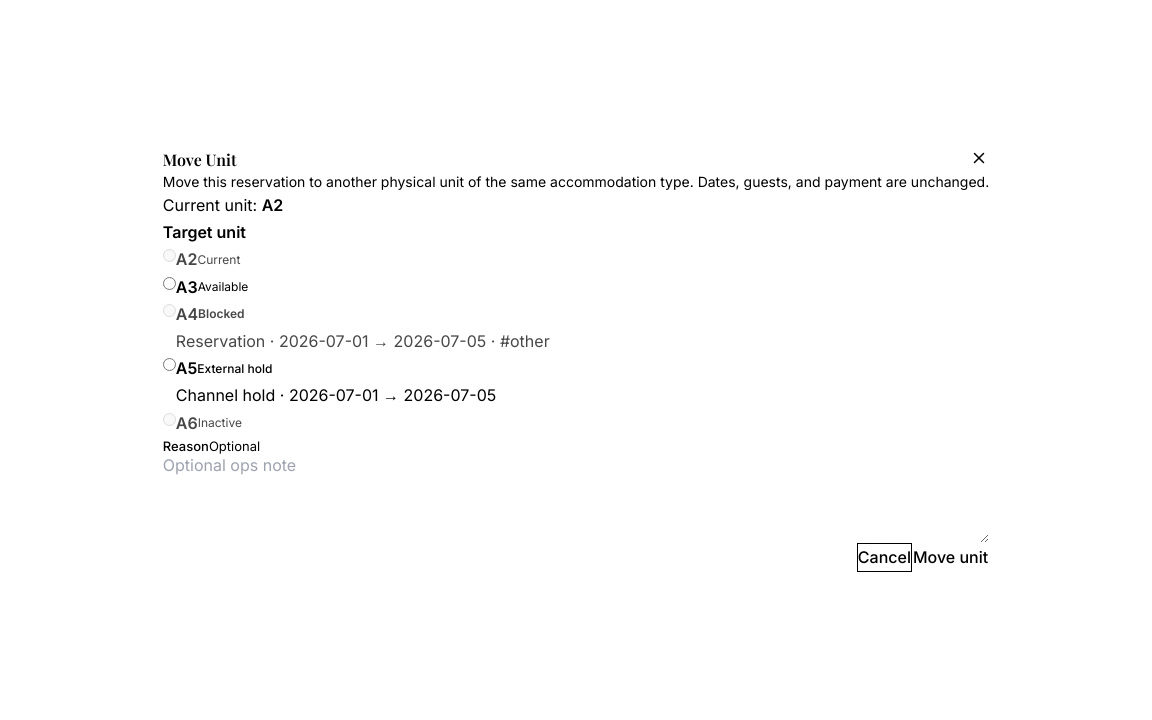
MoveUnitDialog behavior › HTTP 200 needs_reconciliation does not close as success
Expected: the text "A3" is shown, top-left (176, 274), bottom-right (198, 301)
Click the radio button showing "u-avail": (169,283) top-left (163, 277), bottom-right (176, 290)
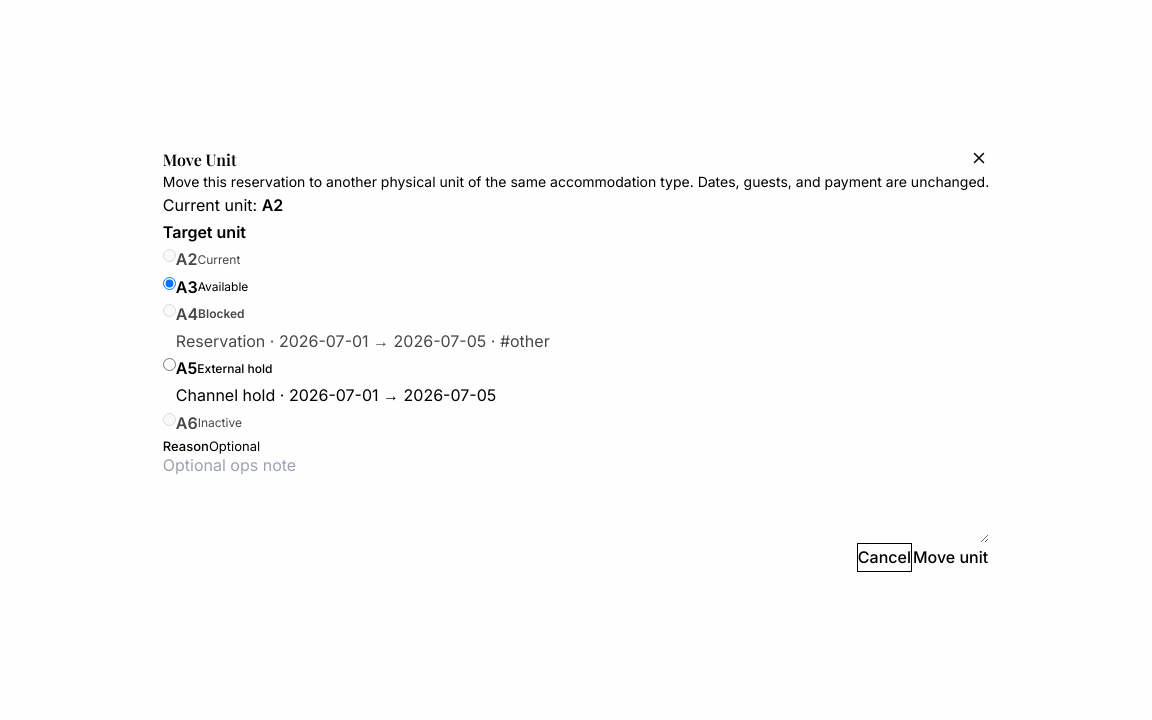
Click the button "Move unit": (951,557) top-left (912, 543), bottom-right (989, 572)
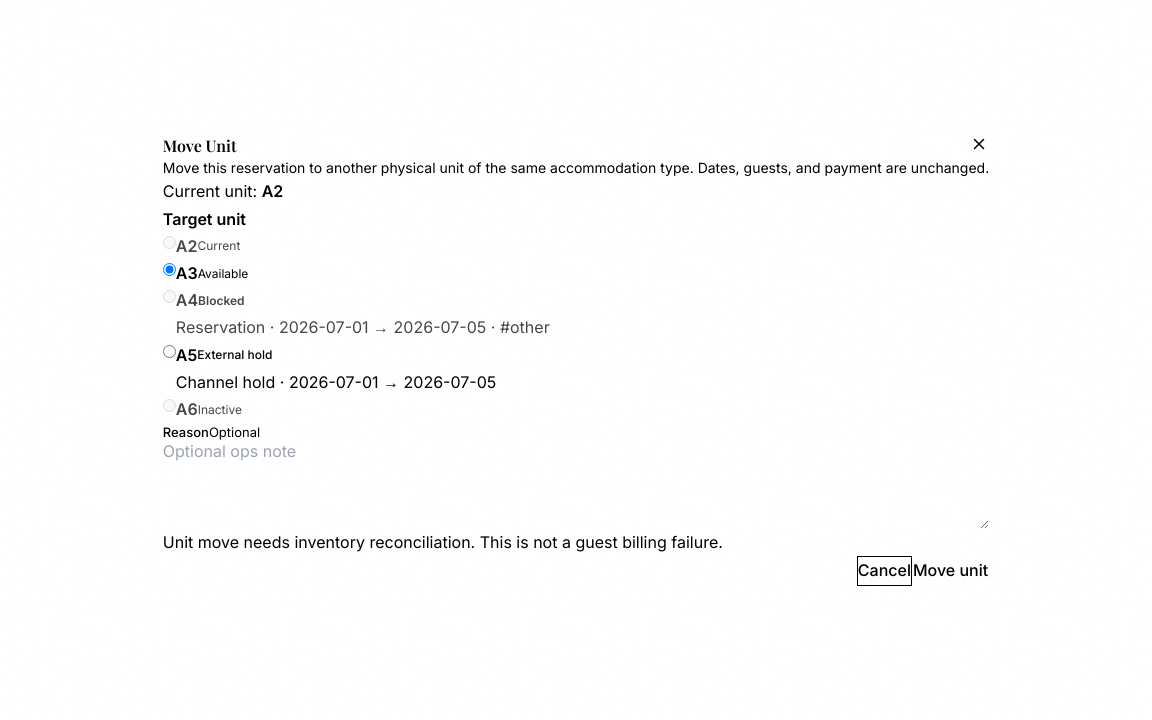
Now the text "reconcil" is shown, box top-left (163, 532), bottom-right (723, 552)
